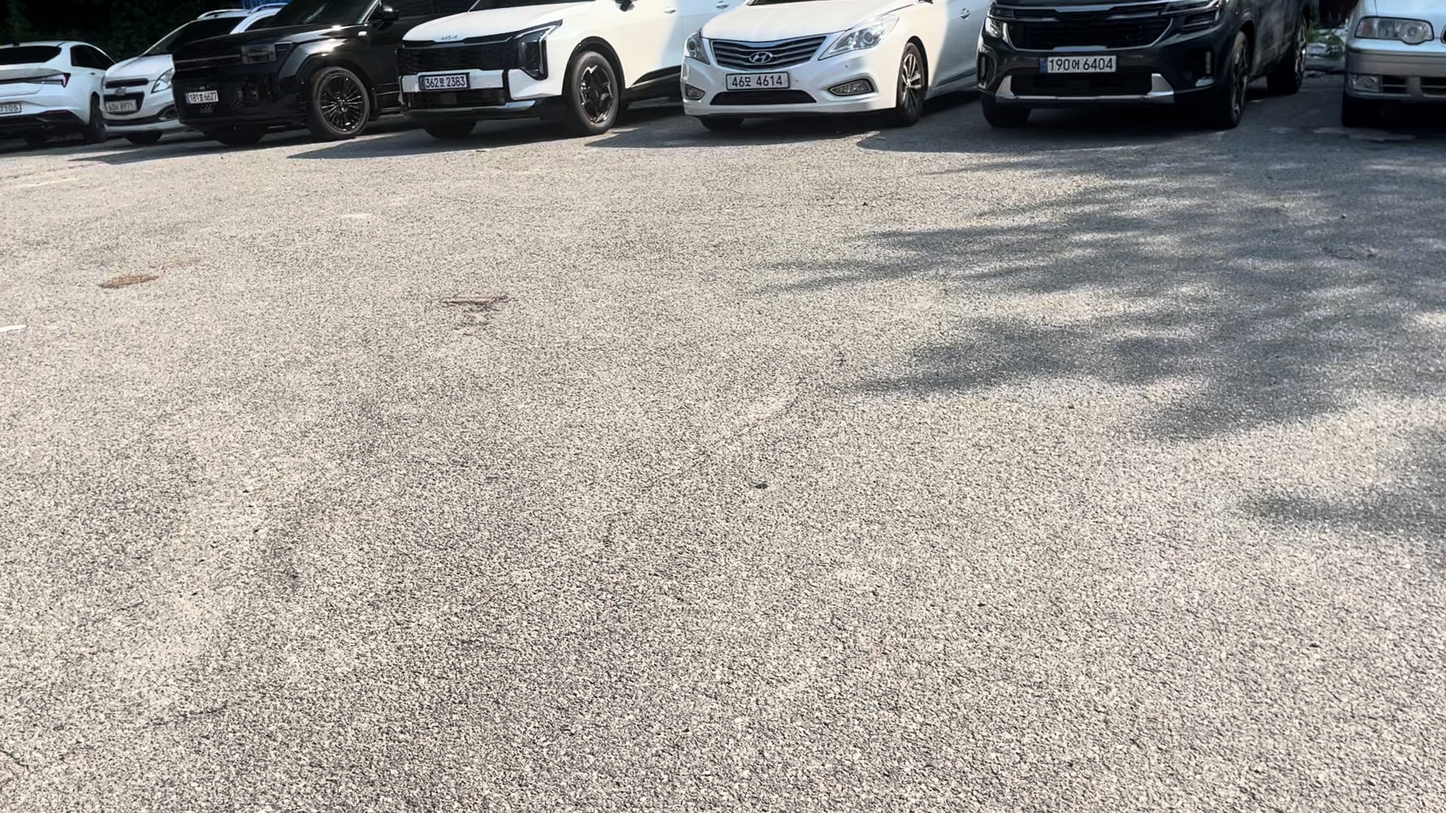license_plate: (1045, 53, 1119, 73), (721, 71, 790, 89), (418, 73, 470, 89), (102, 97, 138, 113), (184, 89, 219, 103)
